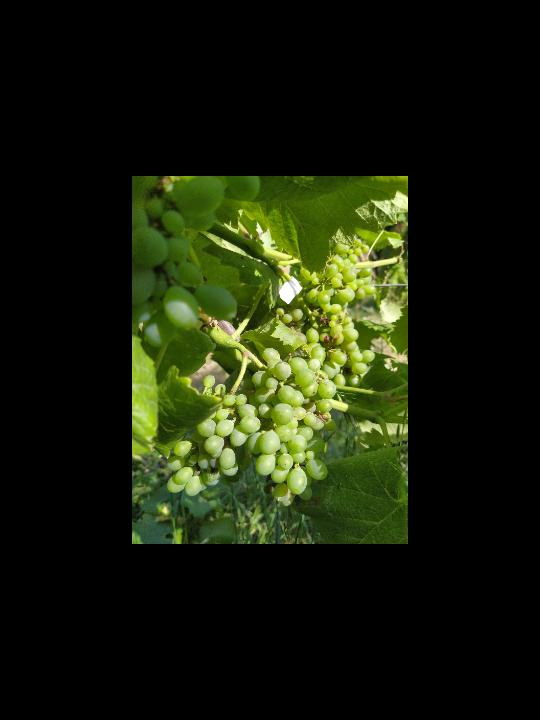grape: (164, 348, 338, 508)
